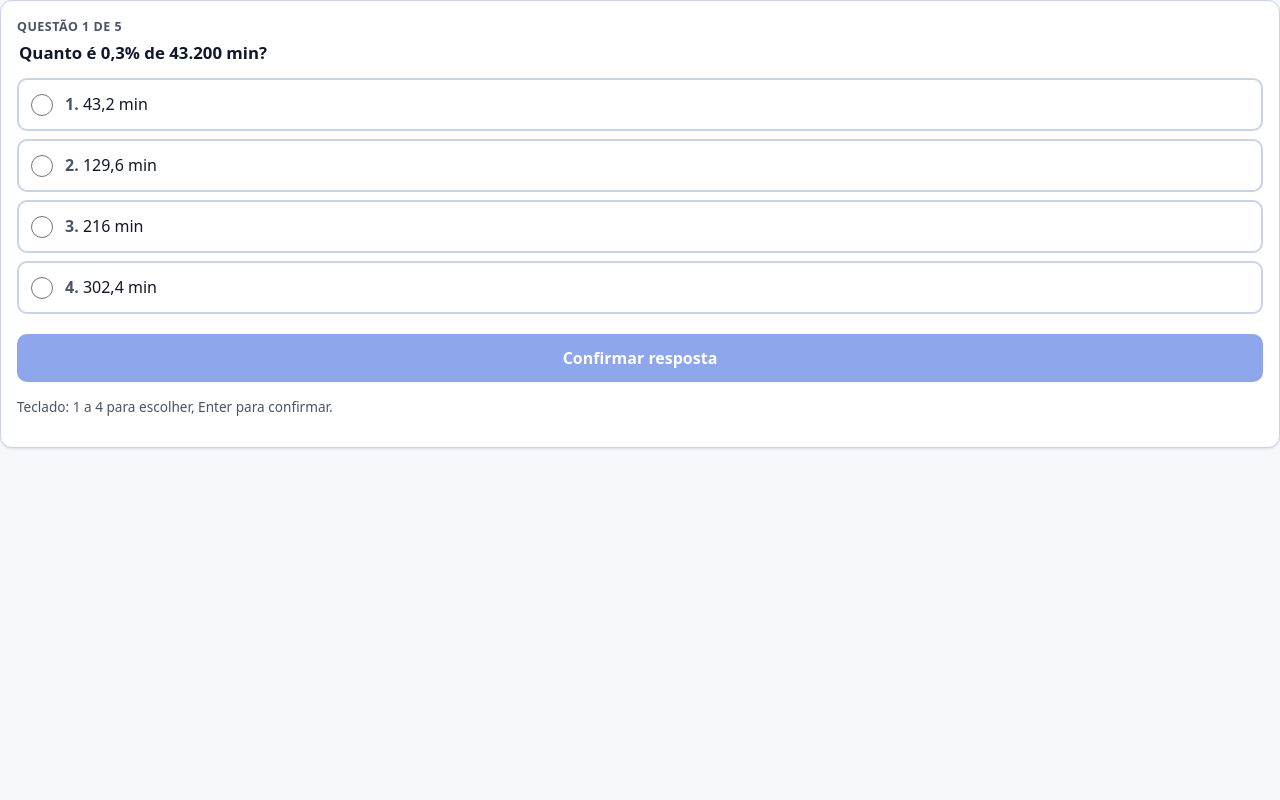
it: QuestaoCard › só confirma depois de escolher, e então mostra a explicação de todas as alternativas
Expected: the button "Confirmar resposta" is disabled, top-left (17, 334), bottom-right (1263, 382)
Click the radio button labelled "1. 43,2 min": (42, 105) top-left (31, 94), bottom-right (53, 116)
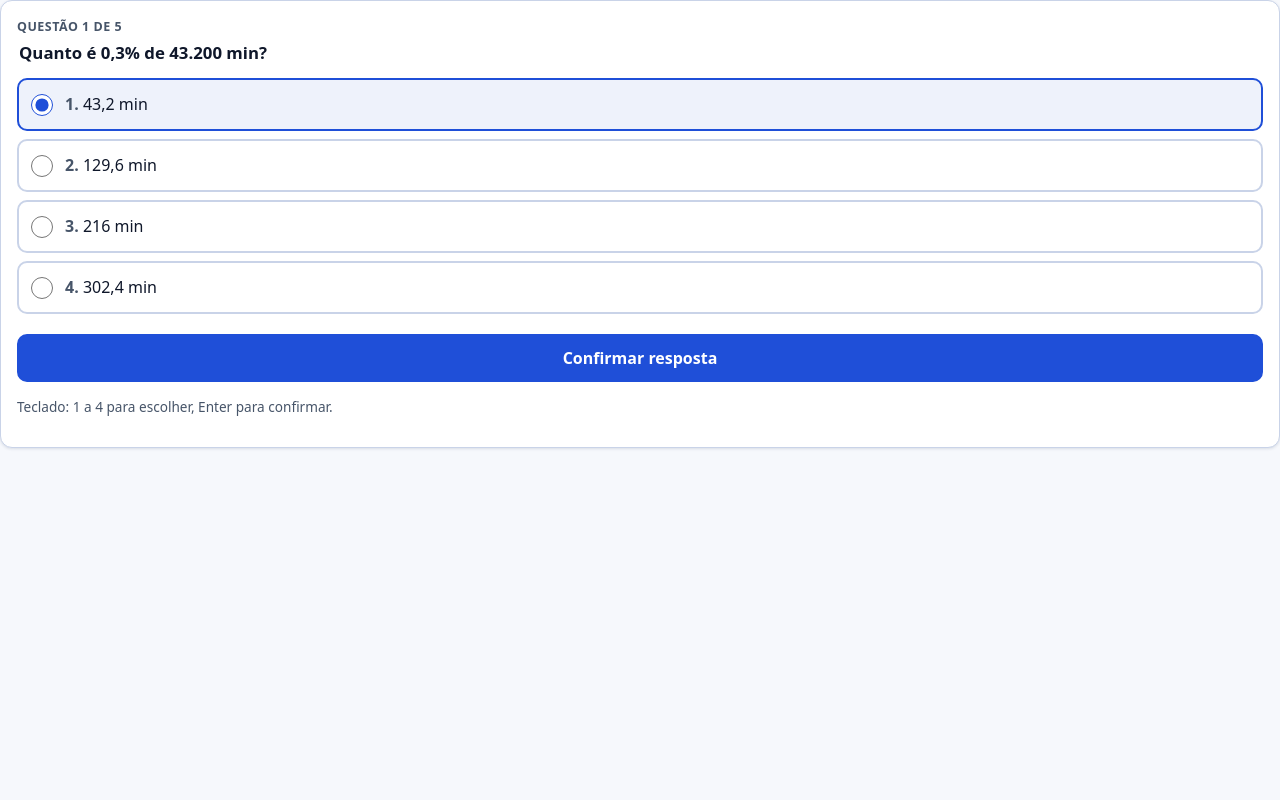
Click the button "Confirmar resposta": (640, 358) top-left (17, 334), bottom-right (1263, 382)
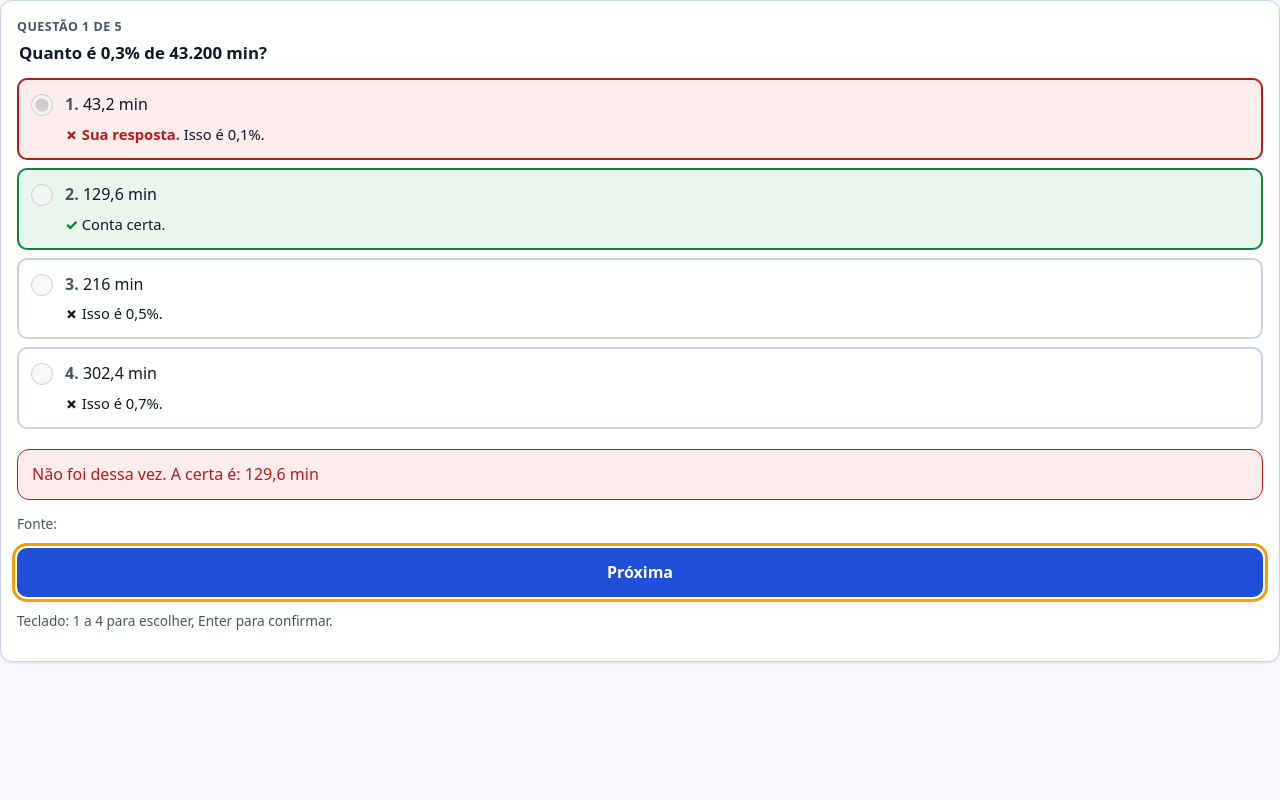
Result: the text "Conta certa." is shown at top-left (82, 214), bottom-right (166, 234)
Result: the text "Isso é 0,1%." is shown at top-left (184, 124), bottom-right (265, 144)
Result: the text "Isso é 0,5%." is shown at top-left (82, 303), bottom-right (163, 323)
